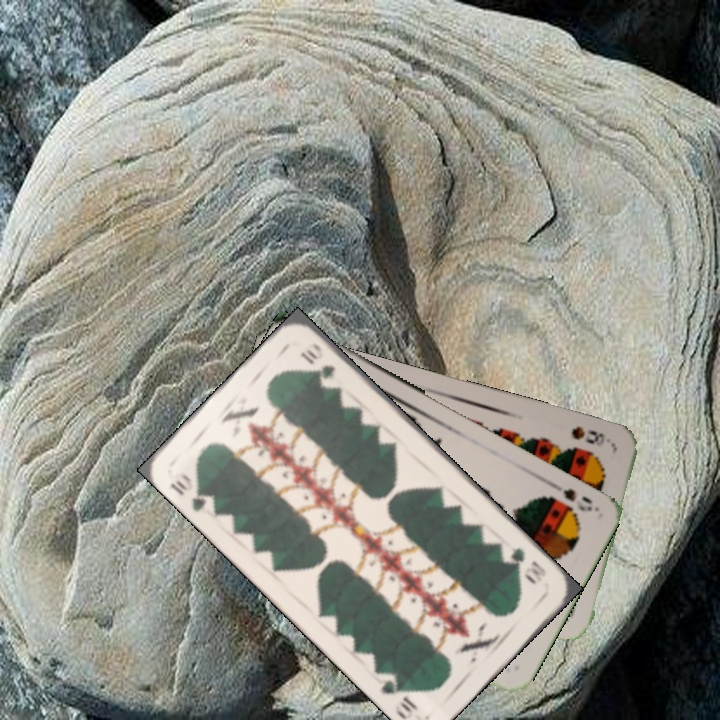G10: (166, 469, 218, 515), (506, 543, 549, 587)
S8: (567, 422, 607, 447)
SO: (543, 477, 595, 515)
